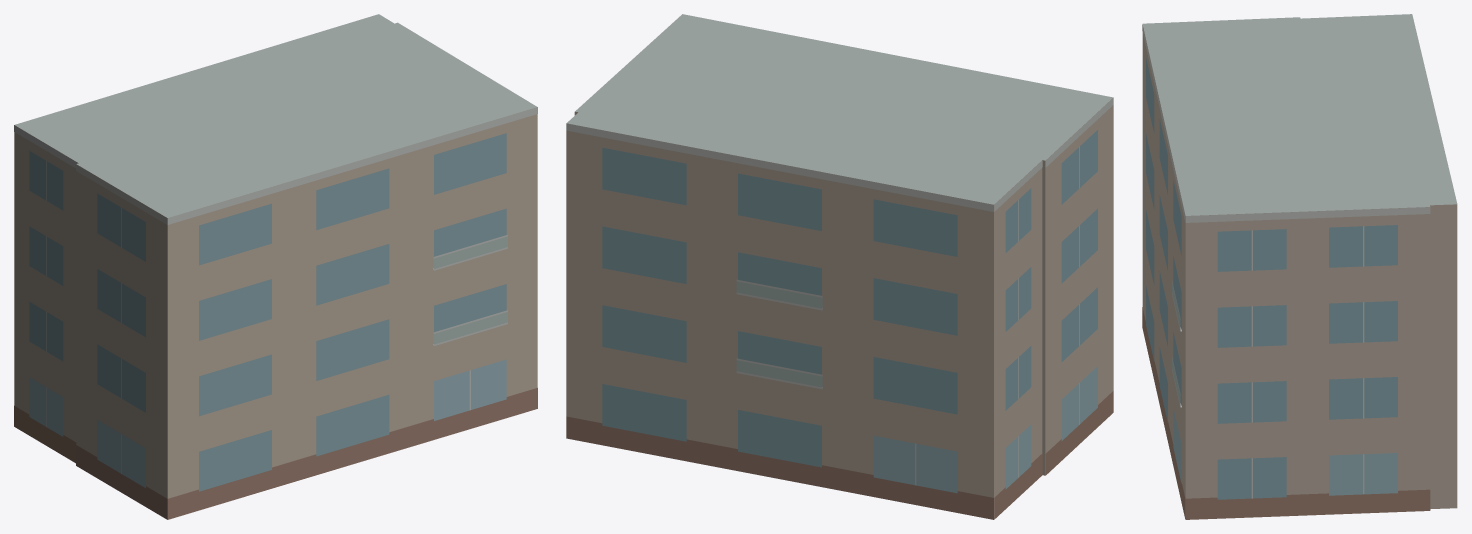
The model's file is survey-upis-32658567.glb.
3 renders of one model, left to right at view 1: azimuth 30°, elevation 25°; view 2: azimuth 150°, elevation 25°; view 3: azimuth 270°, elevation 25°, orthographic. The views are drawn at different scales.
Parts seen in each view (by area): view 1: survey-upis-32658567.tmp; view 2: survey-upis-32658567.tmp; view 3: survey-upis-32658567.tmp.
Boxes of the visible parts, box(x1,y1,x2,y2) form: survey-upis-32658567.tmp: box(14, 14, 537, 519); survey-upis-32658567.tmp: box(566, 14, 1113, 519); survey-upis-32658567.tmp: box(1142, 14, 1457, 519).
Bounding box in the file's own units: 15.12 × 10.6 × 9.97.
